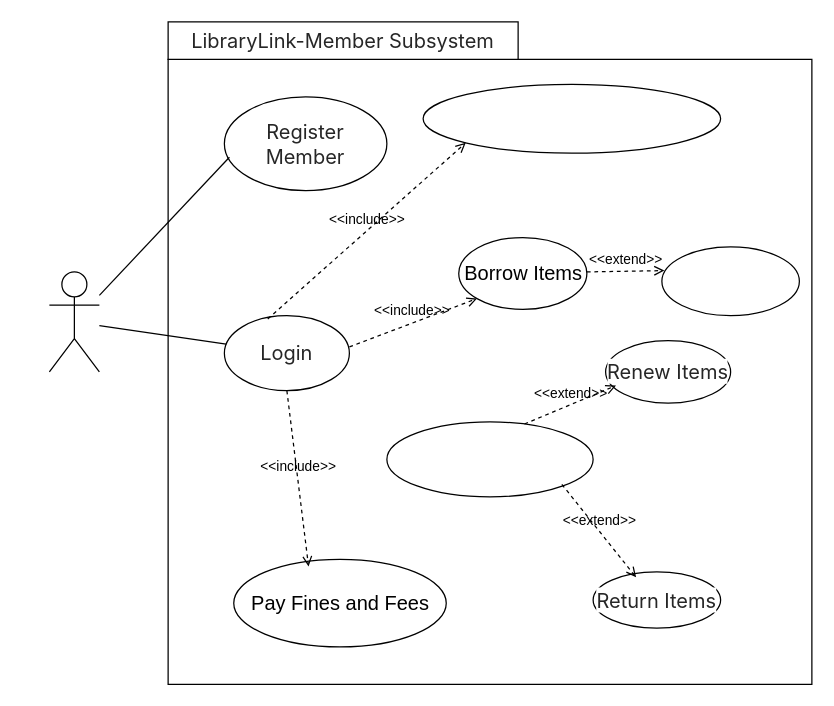
The diagram is 834 pixels wide and 706 high, and some of its shapes have lost their labels. Each missing label, with the box of its shape:
Library Member: (48, 271, 99, 372)
Reserve Items: (661, 246, 799, 316)
Search and Browse Catalogue: (422, 83, 721, 153)
View Return Deadlines: (386, 421, 593, 497)
